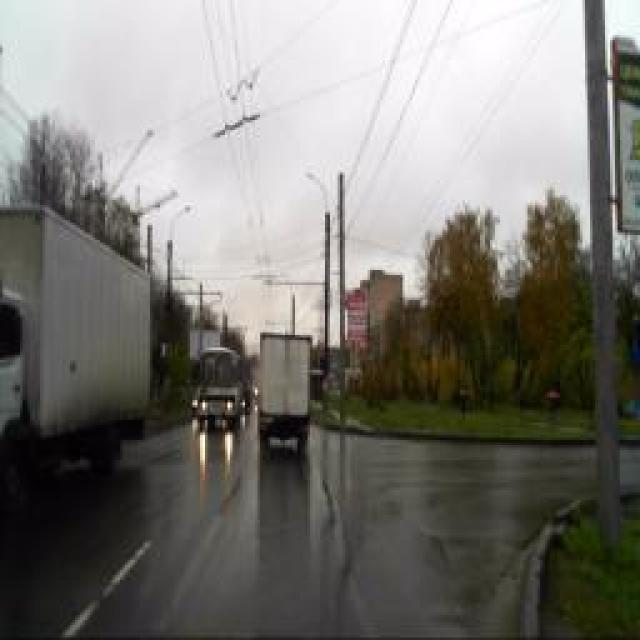sign: (329, 353, 341, 375)
